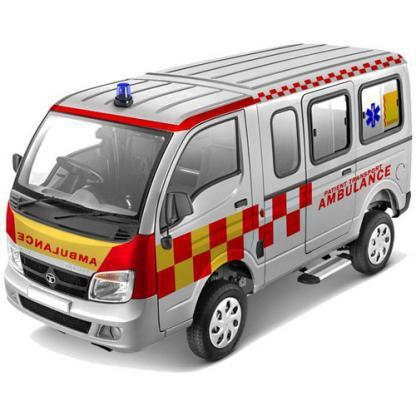Ambulance - v1 Ambulance last generate: (0, 42, 415, 362)
